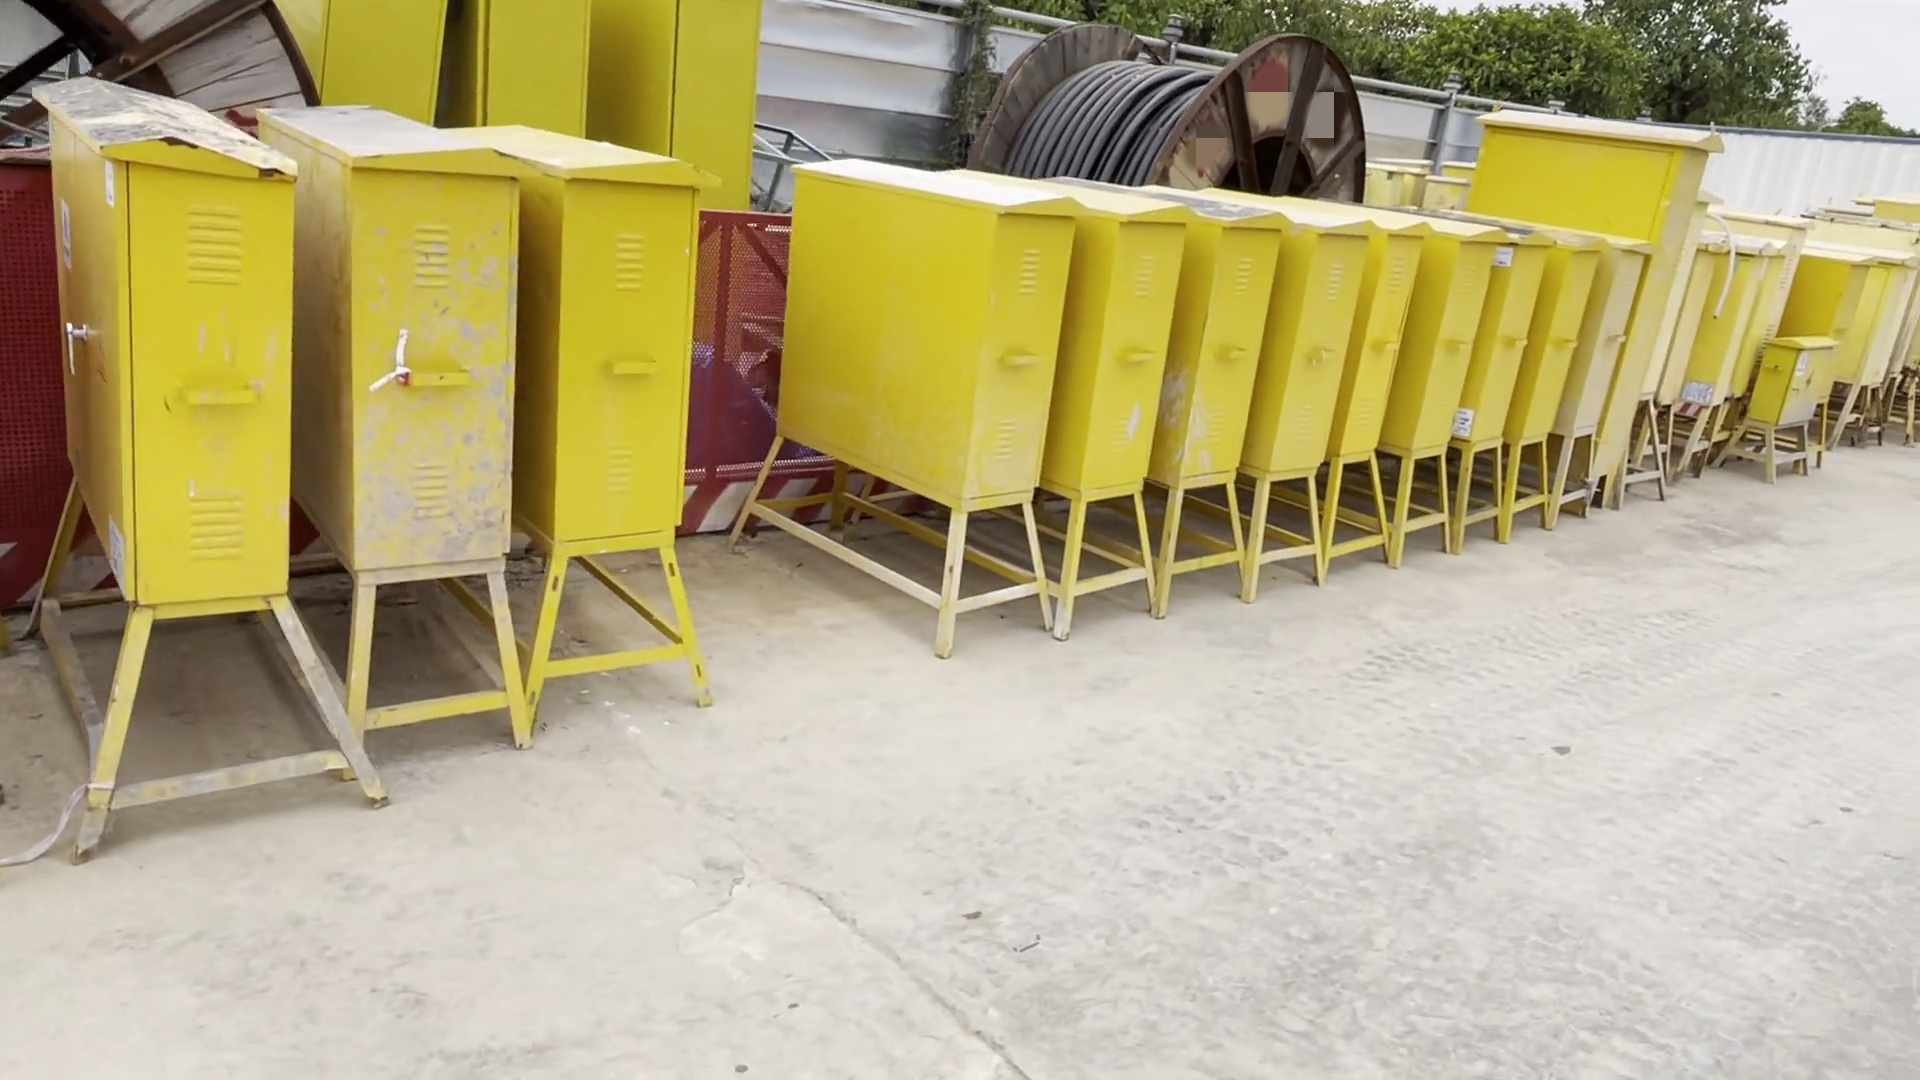ebox: (9, 51, 401, 839), (249, 83, 534, 757), (753, 145, 1055, 641), (465, 127, 713, 715), (1007, 171, 1183, 641), (1482, 107, 1664, 504), (1145, 196, 1286, 620), (1241, 222, 1365, 596), (1317, 216, 1425, 579), (1393, 223, 1497, 574), (597, 1, 745, 211), (1452, 233, 1545, 547), (1510, 233, 1596, 538), (1665, 244, 1771, 489), (1549, 243, 1635, 516), (301, 1, 456, 119), (465, 1, 597, 138), (1722, 332, 1840, 483)
